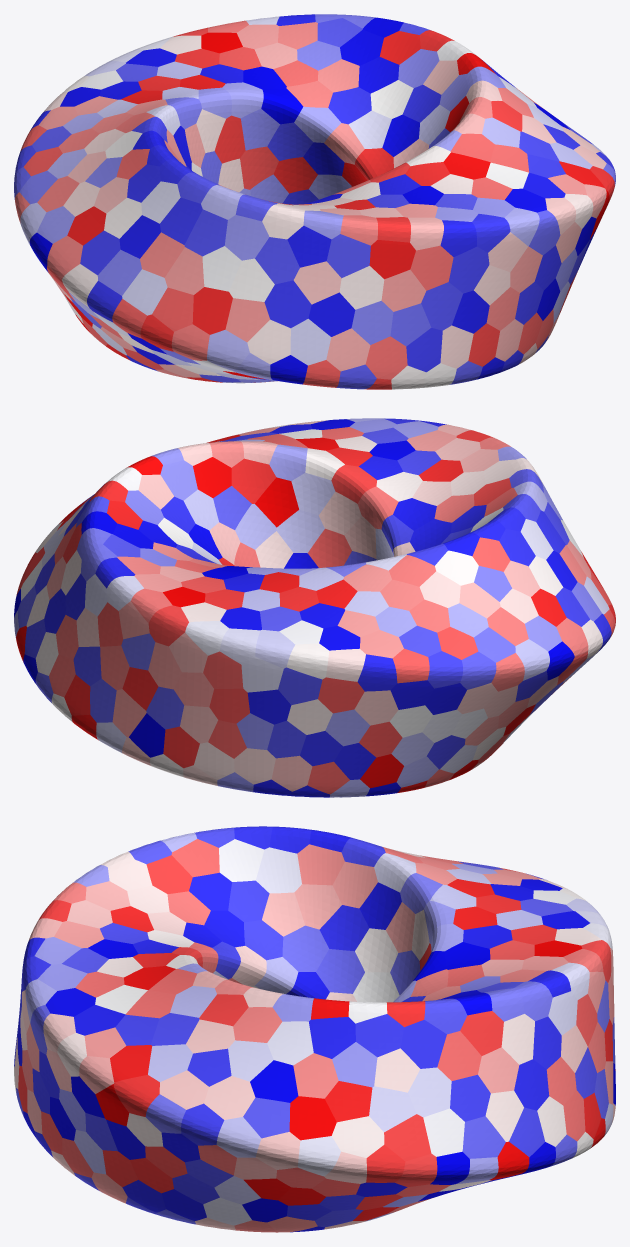
File: Ours_600_mobius1_Iter11_RVD.obj
The picture shows the model from 3 angles, top to bottom: view 1: azimuth 30°, elevation 25°; view 2: azimuth 150°, elevation 25°; view 3: azimuth 270°, elevation 25°; orthographic projection. The views are drawn at different scales.
Parts seen in each view (by area): view 1: 3D_Object; view 2: 3D_Object; view 3: 3D_Object.
Part boxes in pixels (x1,y1,x2,y2): 3D_Object: (14, 14, 615, 389); 3D_Object: (14, 418, 615, 797); 3D_Object: (14, 826, 615, 1232).
Size of the model in its own units: 6.8 by 2.63 by 6.26.
1 material, 1 textured.
